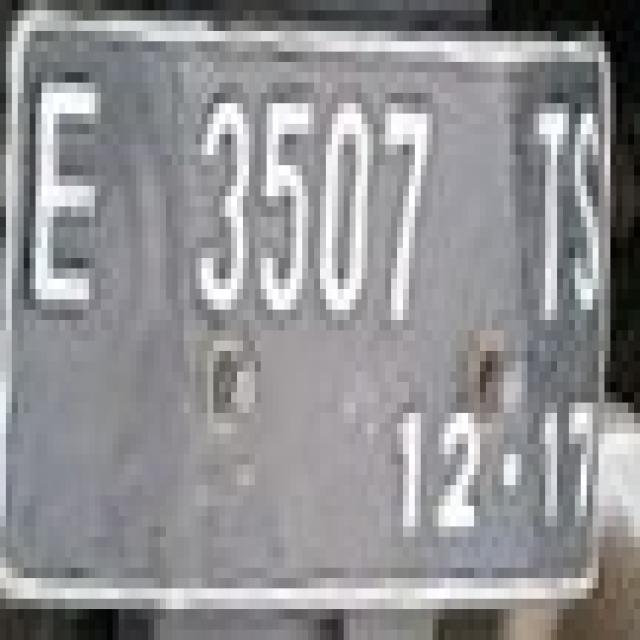plate: (29, 20, 586, 640)
